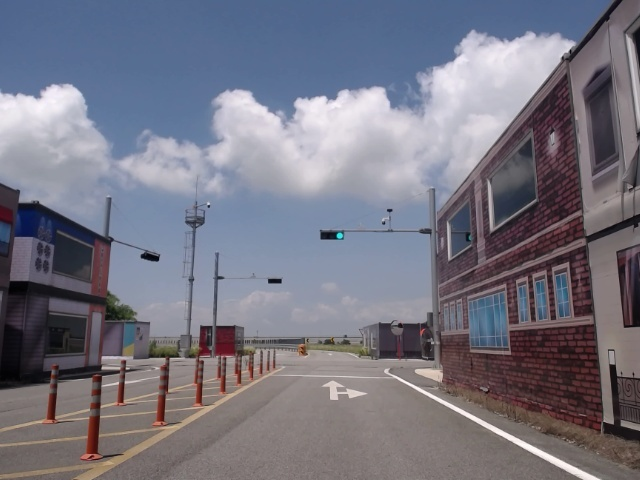green_3: (321, 231, 344, 240)
